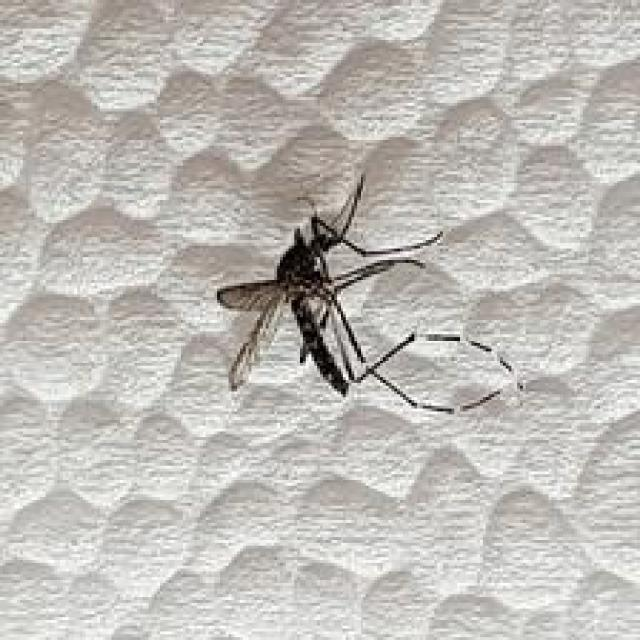Aedes albopictus: (214, 170, 520, 416)
